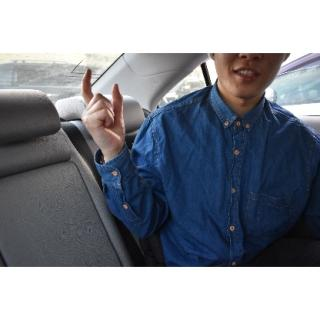NOON: (81, 64, 128, 158)
